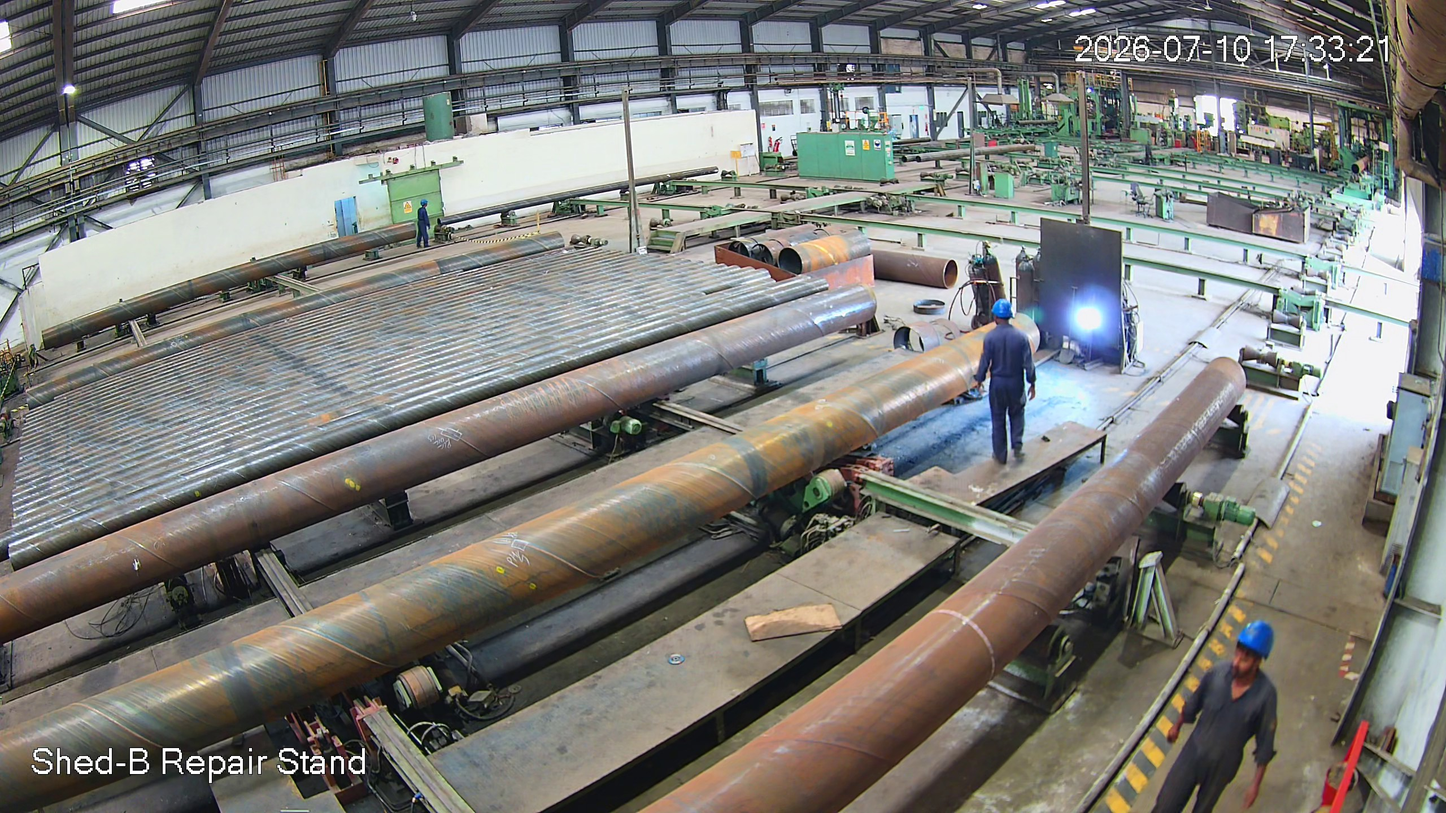Helmet: (1224, 603, 1278, 691), (988, 295, 1013, 336)
Person: (1151, 625, 1299, 813), (982, 299, 1036, 467)
